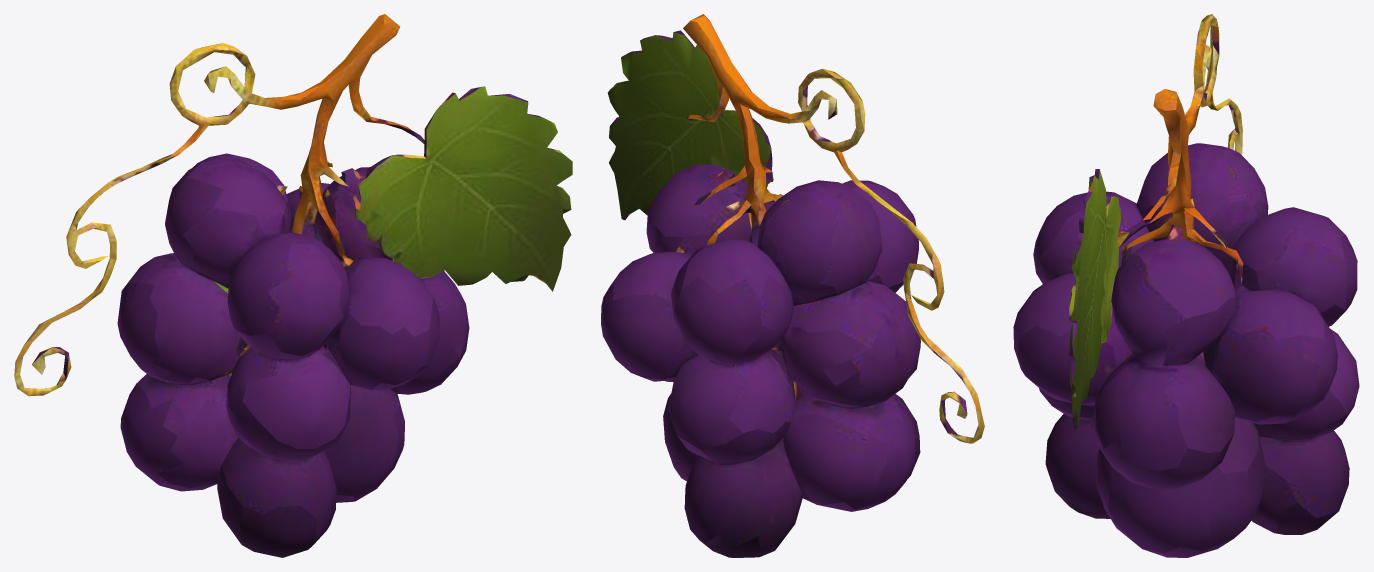
Rendered from wild_grape.glb.
3 renders of one model, left to right at view 1: azimuth 30°, elevation 25°; view 2: azimuth 150°, elevation 25°; view 3: azimuth 270°, elevation 25°, orthographic. The views are drawn at different scales.
Parts seen in each view (by area): view 1: item_wild_grape; view 2: item_wild_grape; view 3: item_wild_grape.
Part boxes in pixels (left/top/right/bottom): item_wild_grape: left=14, top=14, right=572, bottom=557; item_wild_grape: left=601, top=14, right=984, bottom=557; item_wild_grape: left=1013, top=14, right=1359, bottom=557.
Bounding box in the file's own units: 1 × 0.9768 × 0.6219.
1 material, 1 textured.
